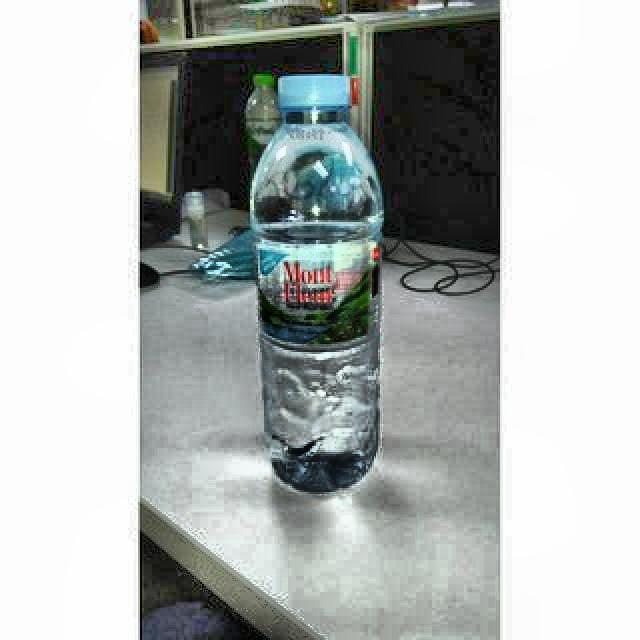plastic bottle: (251, 75, 384, 492)
